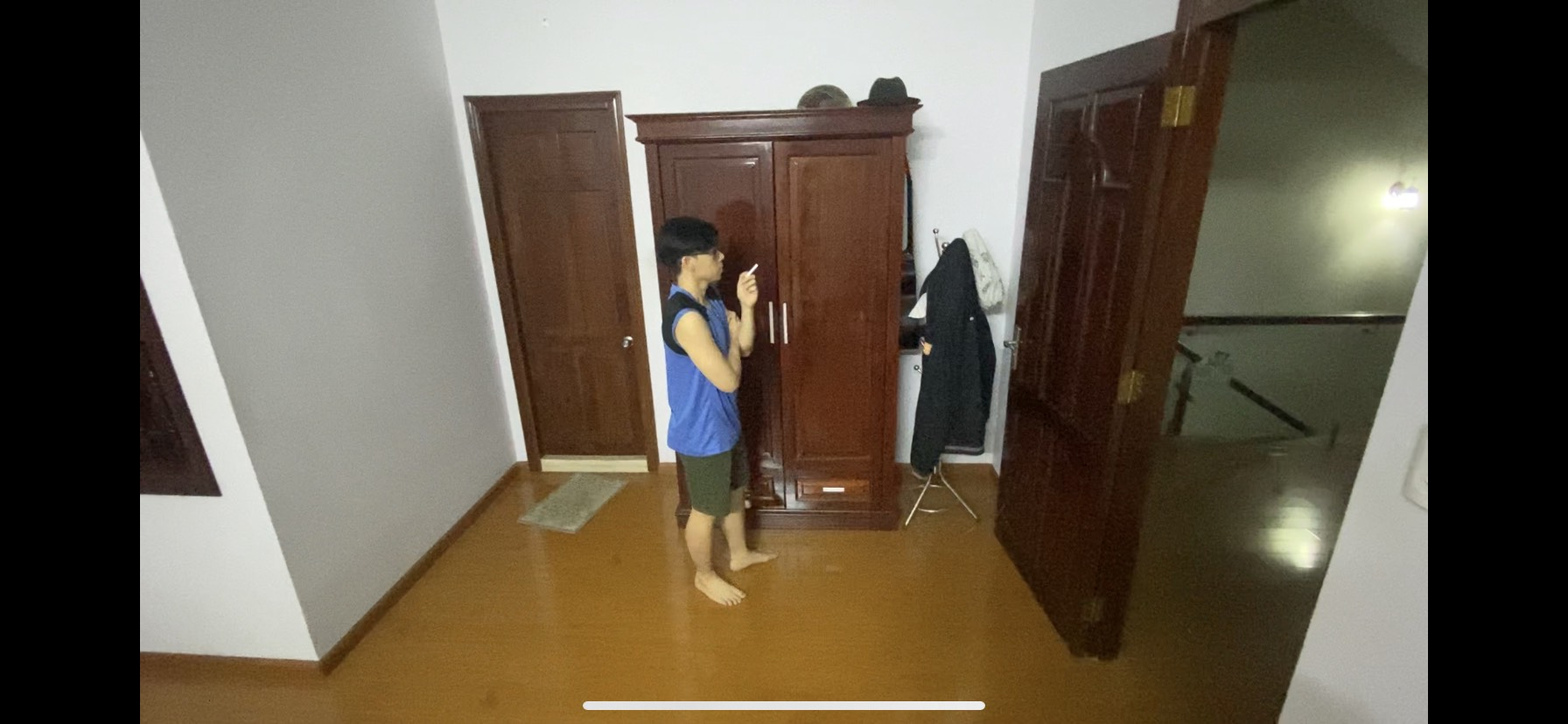cigarette: (746, 262, 762, 274)
person: (648, 206, 783, 611)
